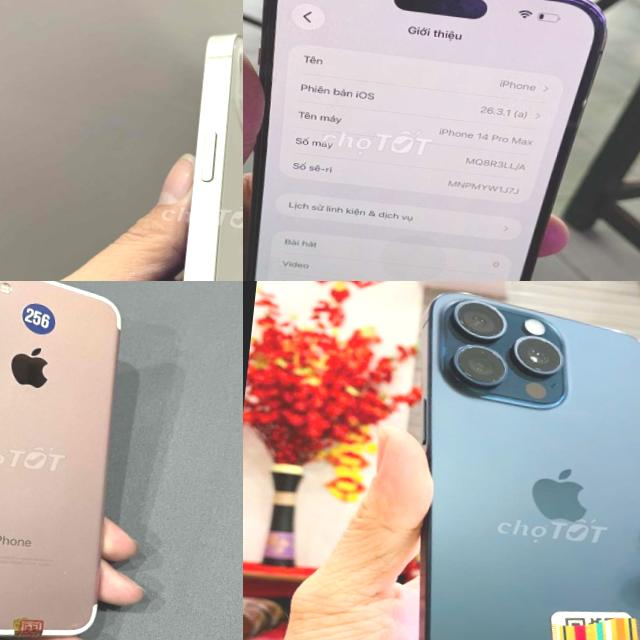gen_12_13: (155, 21, 243, 281)
gen_14: (243, 0, 600, 281)
gen_15: (372, 282, 640, 640)
gen_7_8: (0, 281, 142, 640)
